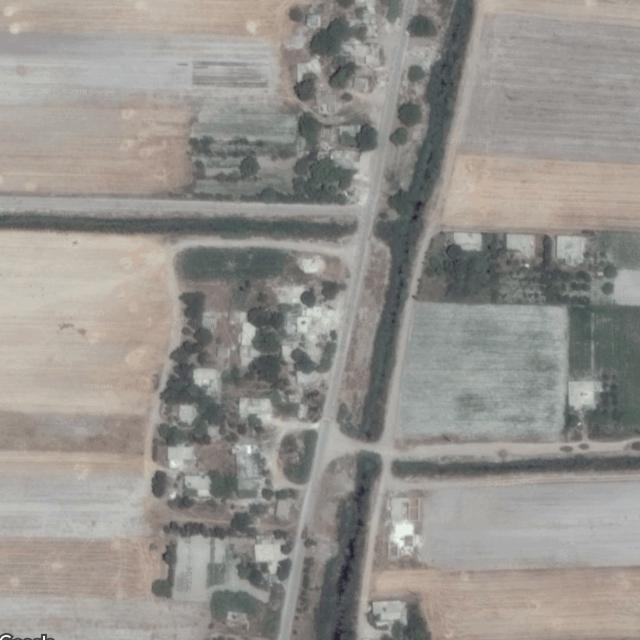damaged_building: (339, 37, 396, 89), (306, 292, 343, 362), (295, 54, 321, 82), (295, 249, 323, 273)
